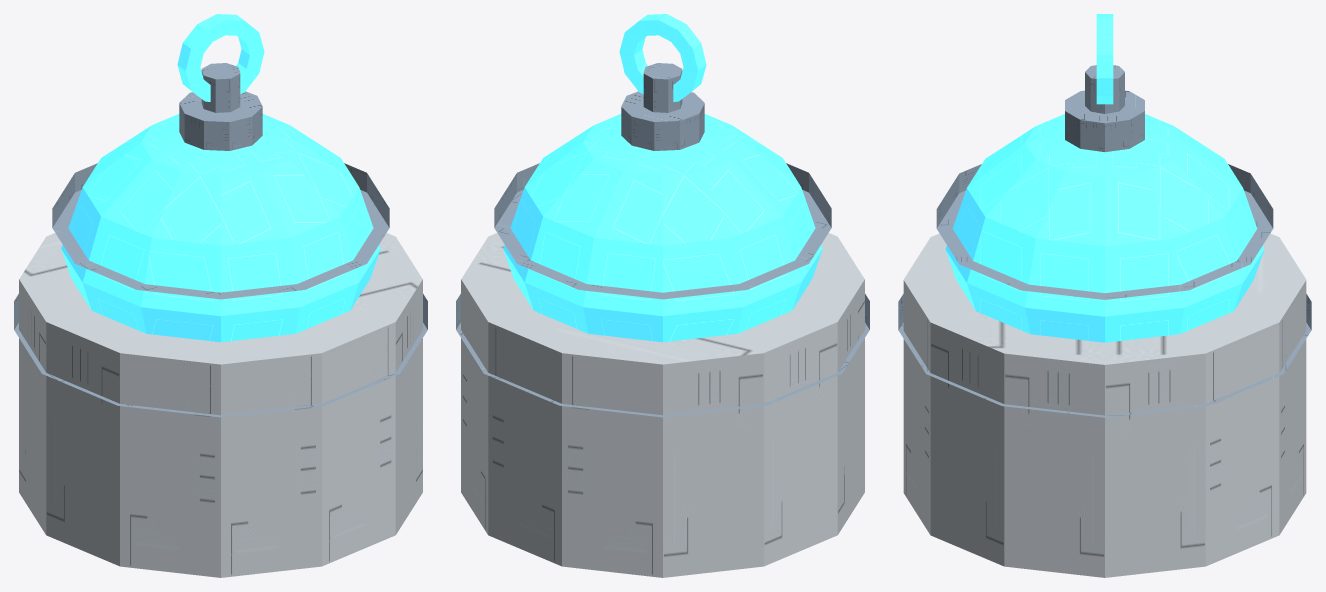
File: spark.glb
3 renders of one model, left to right at view 1: azimuth 30°, elevation 25°; view 2: azimuth 150°, elevation 25°; view 3: azimuth 270°, elevation 25°, orthographic.
Visible parts, largest first — view 1: body, fuse; view 2: body, fuse; view 3: body, fuse.
Part boxes in pixels (box(x1,y1,x2,y2)): body: box(14, 91, 427, 577); fuse: box(177, 14, 264, 112); body: box(456, 91, 869, 577); fuse: box(619, 14, 706, 112); body: box(898, 90, 1311, 577); fuse: box(1085, 14, 1124, 113).
Size of the model in its own units: 0.246 by 0.312 by 0.246.
3 materials, 3 textured.
